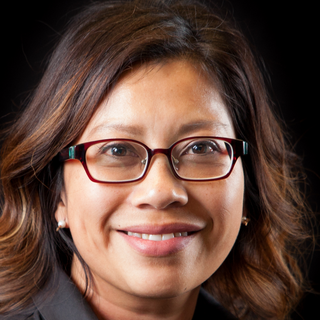eye: (178, 140, 221, 163), (95, 142, 139, 164)
